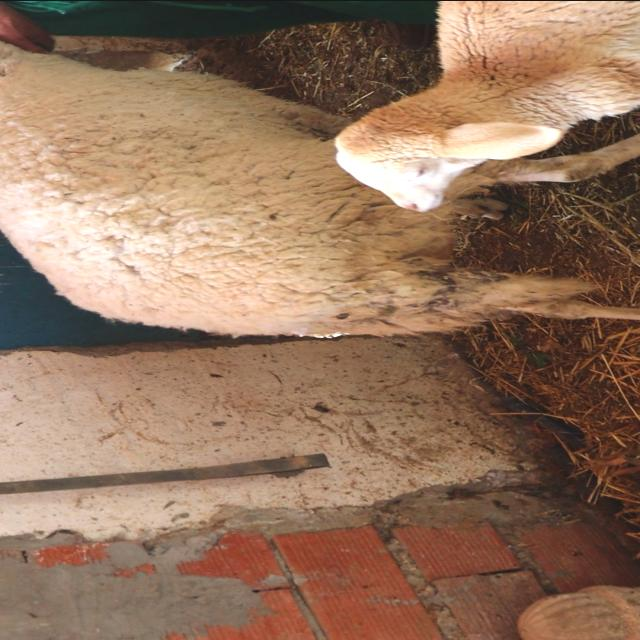Score_3: (0, 40, 639, 336)
